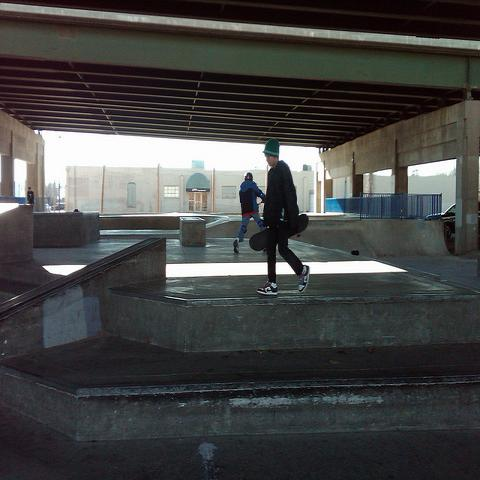car: (429, 204, 455, 234)
